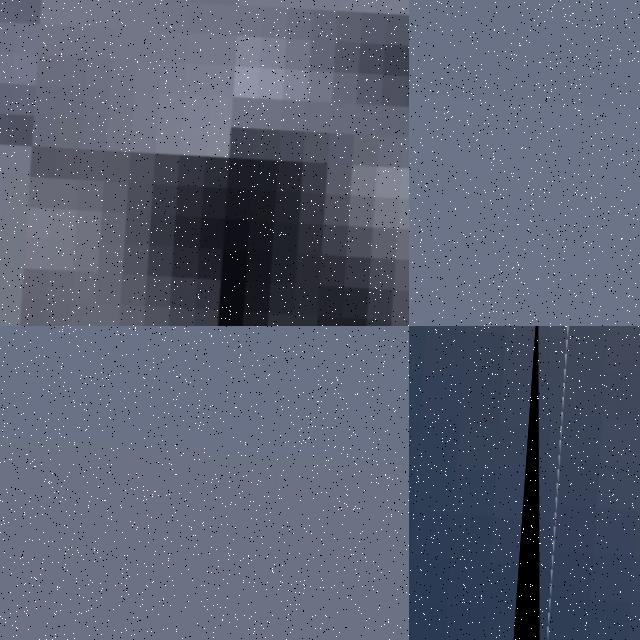0: (0, 0, 409, 326)
drone: (492, 326, 640, 640)
